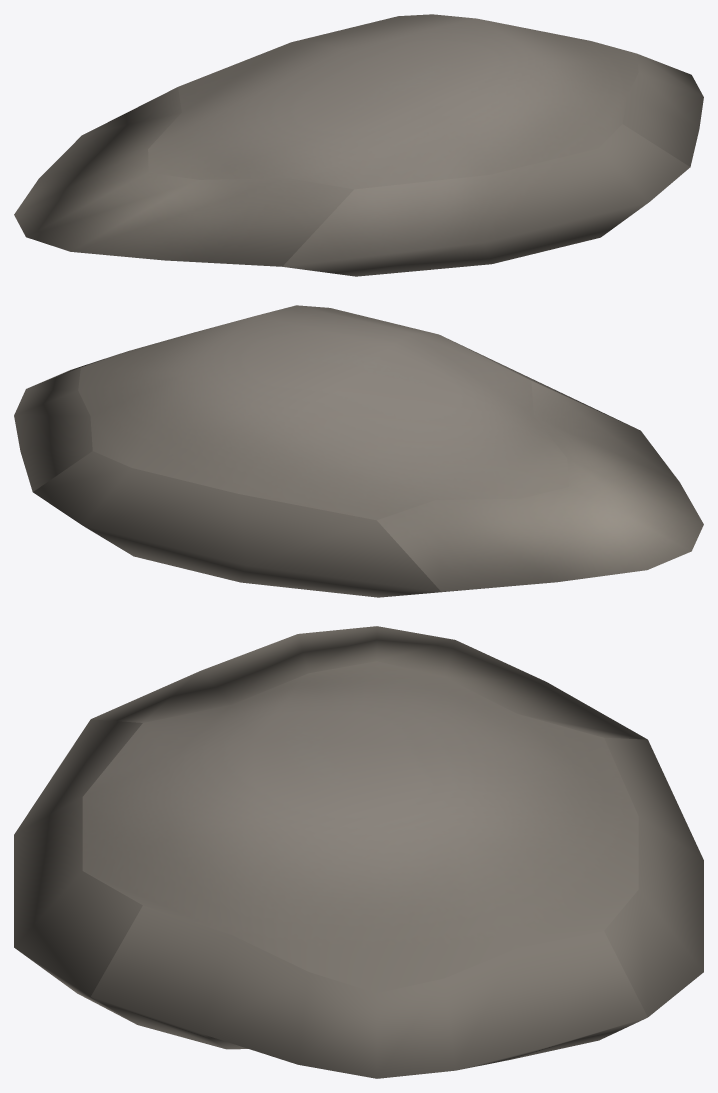
The model's file is stone.fbx.
3 views of the same model, one above another, from view 1: azimuth 30°, elevation 25°; view 2: azimuth 150°, elevation 25°; view 3: azimuth 270°, elevation 25° (orthographic). The views are drawn at different scales.
Parts seen in each view (by area): view 1: mesh_stone; view 2: mesh_stone; view 3: mesh_stone.
Boxes of the visible parts, left/top/right/bottom form: mesh_stone: left=14, top=14, right=703, bottom=276; mesh_stone: left=14, top=305, right=703, bottom=597; mesh_stone: left=14, top=626, right=703, bottom=1078.
Size of the model in its own units: 3.03 by 0.7055 by 1.95.
